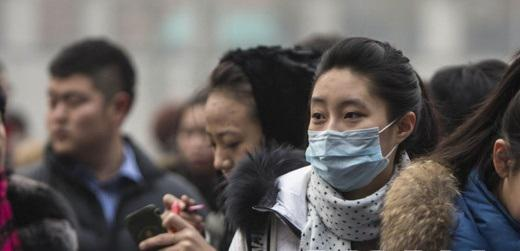NONE: (205, 114, 264, 191), (45, 86, 105, 155)
OK: (306, 93, 392, 184)
